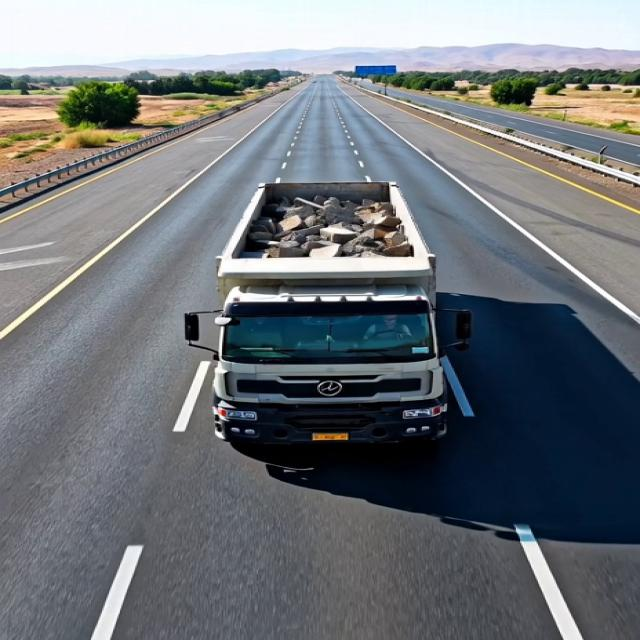Box: (224, 176, 437, 294)
Truck: (204, 160, 484, 450)
